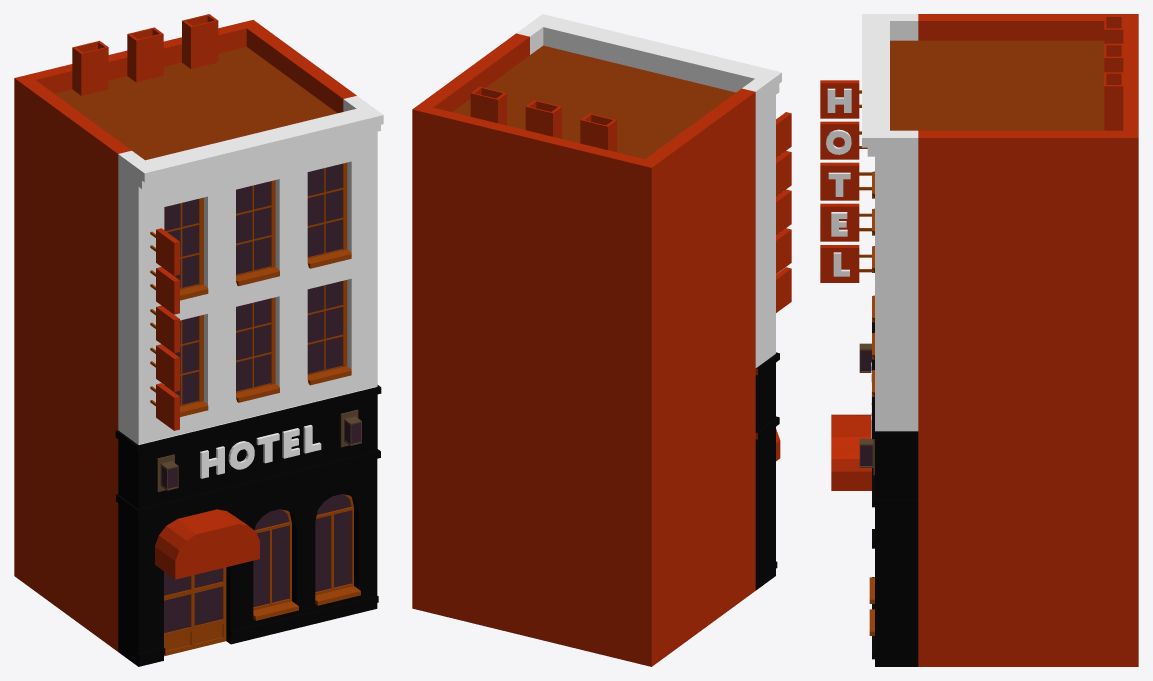
The model's file is FBX_Hotel_A.FBX.
The picture shows the model from 3 angles, left to right: view 1: azimuth 30°, elevation 25°; view 2: azimuth 150°, elevation 25°; view 3: azimuth 270°, elevation 25°; orthographic projection. The views are drawn at different scales.
Visible parts, largest first — view 1: Hotel_A; view 2: Hotel_A; view 3: Hotel_A.
Boxes of the visible parts, left/top/right/bottom form: Hotel_A: left=14, top=14, right=383, bottom=666; Hotel_A: left=412, top=14, right=791, bottom=666; Hotel_A: left=820, top=14, right=1138, bottom=666.
Size of the model in its own units: 6.21 by 12.69 by 6.61.
